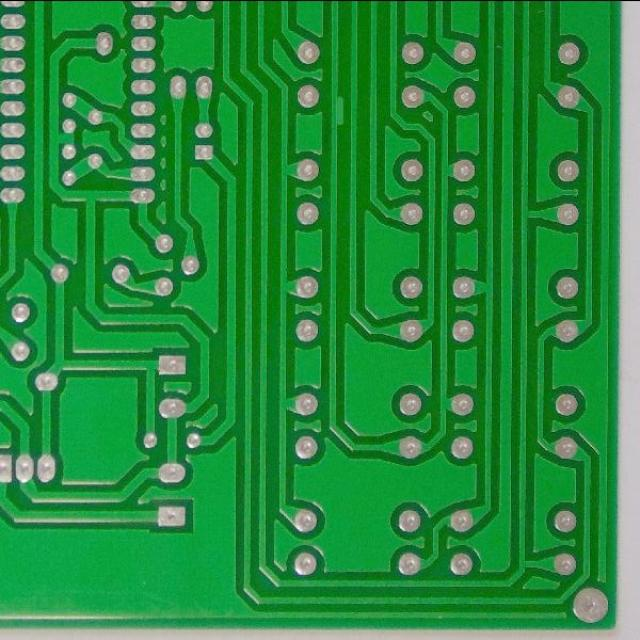Spur: (327, 91, 348, 130)
